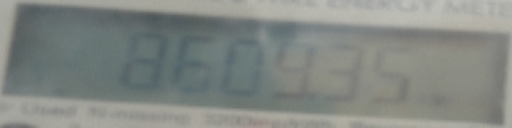0: (217, 28, 267, 113)
3: (322, 34, 363, 108)
5: (367, 32, 408, 108)
6: (168, 30, 221, 101)
8: (119, 17, 167, 100)
9: (275, 32, 317, 107)
d: (306, 89, 316, 103)
